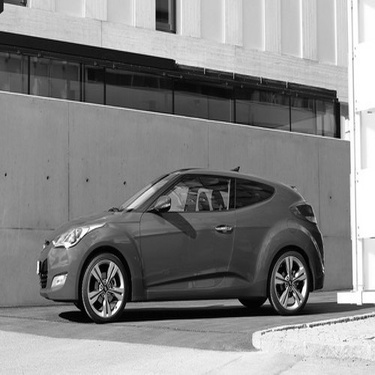car: (30, 151, 331, 327)
